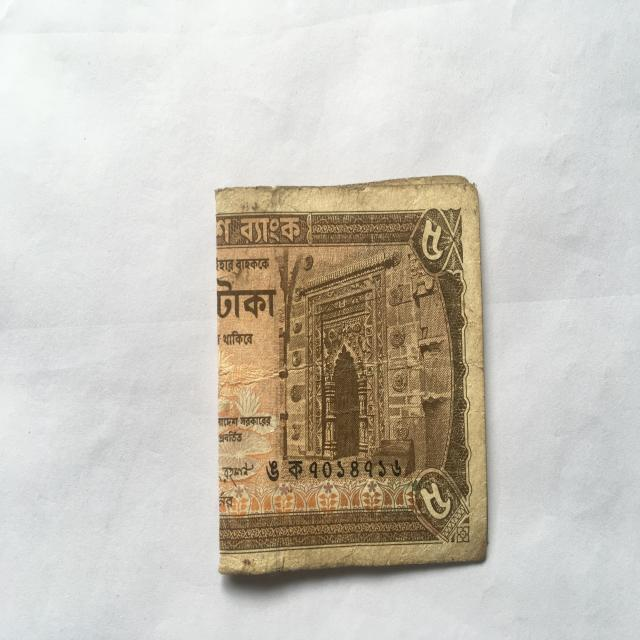Taka: (206, 178, 492, 569)
